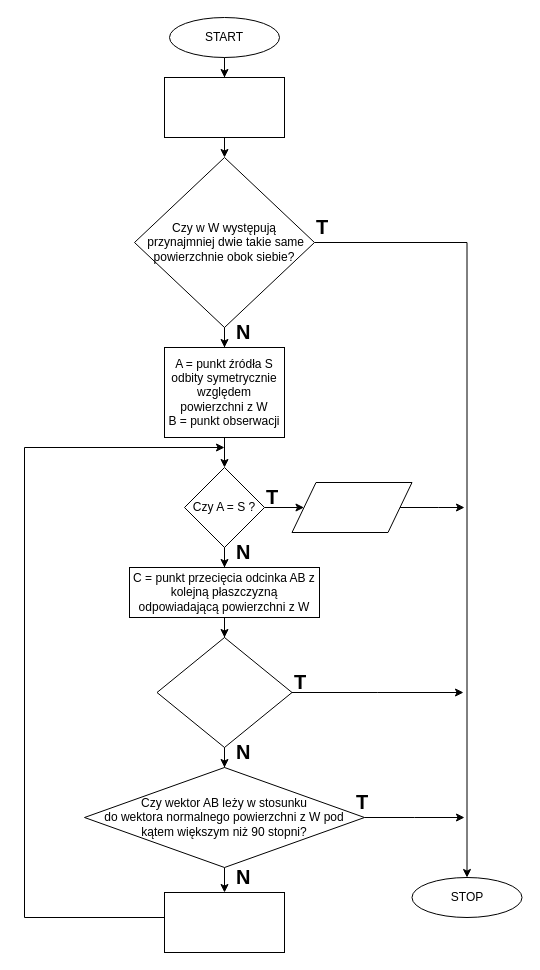
The diagram is 540 pixels wide and 970 high, and some of its shapes have lost their labels. Here are the shapes that lost their labels. From the top down, the centre of each, then its label:
At point 224,107: "W = i-ta wariacja powierzchni odbijających".
At point 351,507: "Wypisz i".
At point 224,692: "Czy C leży poza powierzchnią z W?".
At point 224,922: "B = A A = C".
